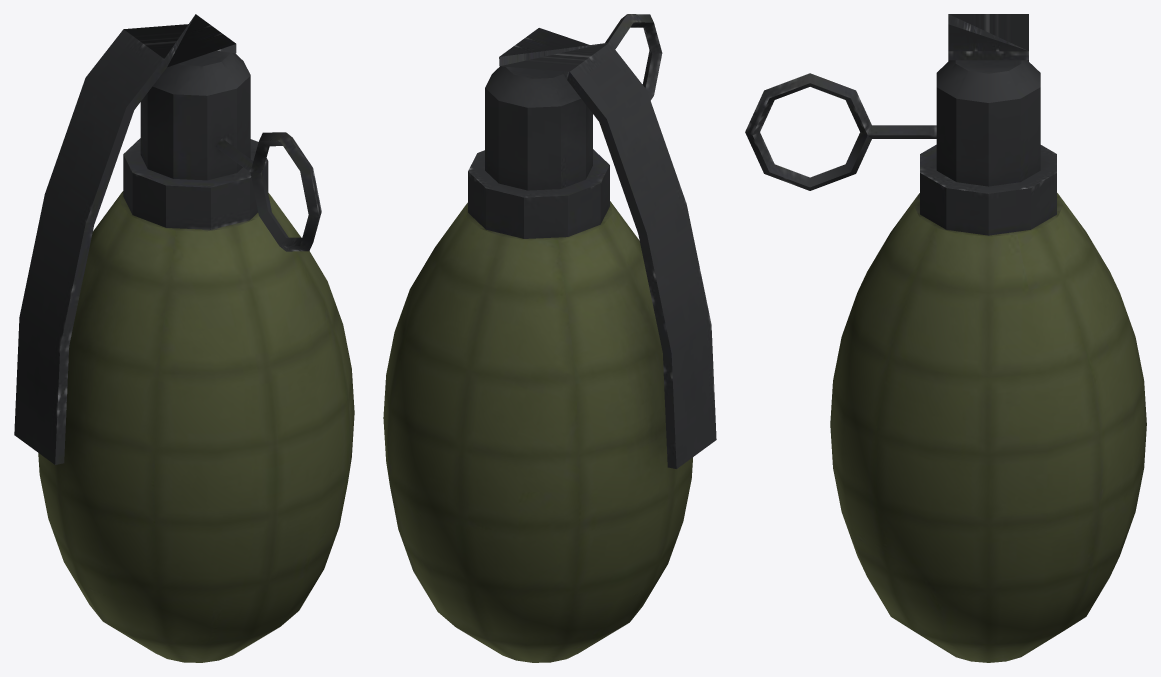
The model's file is grenade_f1.glb.
3 views of the same model, side by side, from view 1: azimuth 30°, elevation 25°; view 2: azimuth 150°, elevation 25°; view 3: azimuth 270°, elevation 25° (orthographic). The views are drawn at different scales.
Visible parts, largest first — view 1: grenade_f1_mesh; view 2: grenade_f1_mesh; view 3: grenade_f1_mesh.
Boxes of the visible parts, box(x1,y1,x2,y2) form: grenade_f1_mesh: box(14, 14, 354, 662); grenade_f1_mesh: box(383, 14, 716, 662); grenade_f1_mesh: box(745, 14, 1146, 662).
Size of what is drawn, in the model's own units: 0.0594 by 0.1159 by 0.0698.
1 material, 1 textured.
